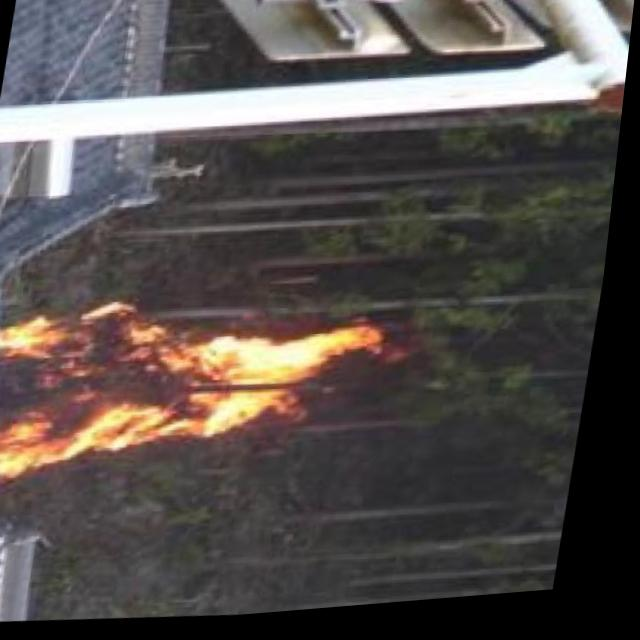Fire: (0, 284, 384, 487)
